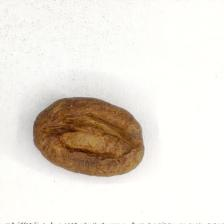NG: (43, 99, 138, 169)
